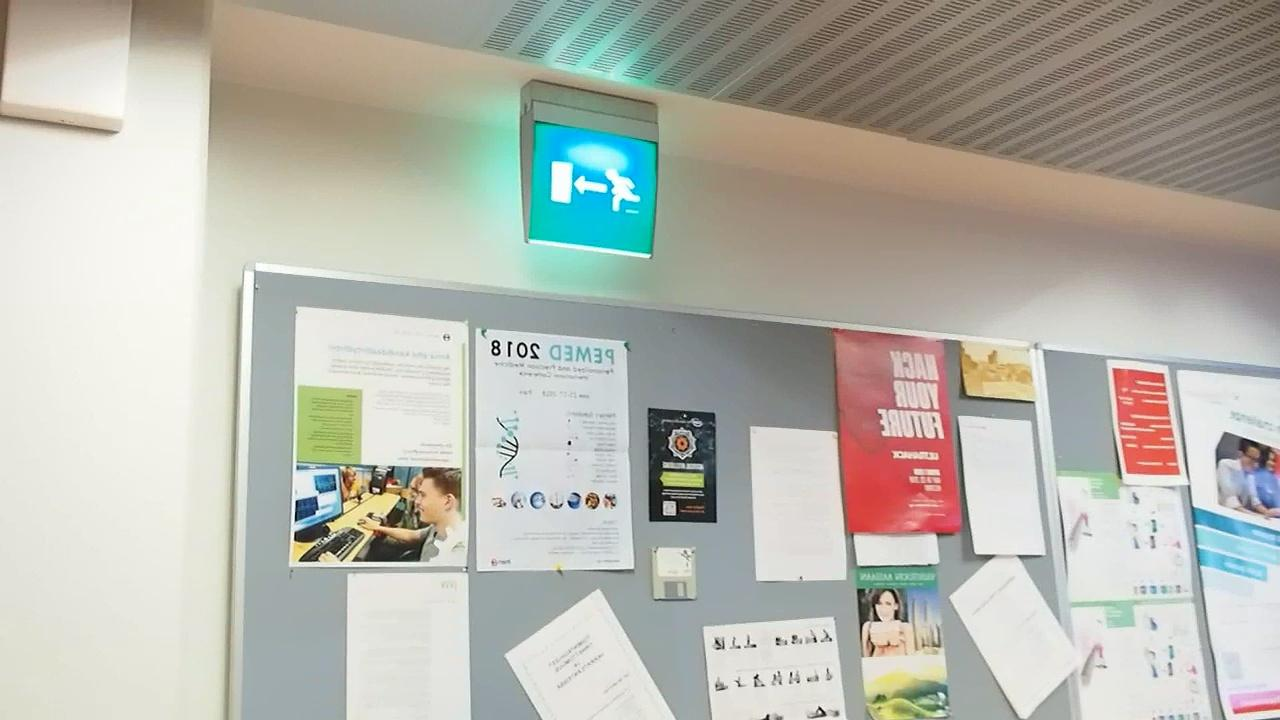exit: (523, 121, 660, 252)
